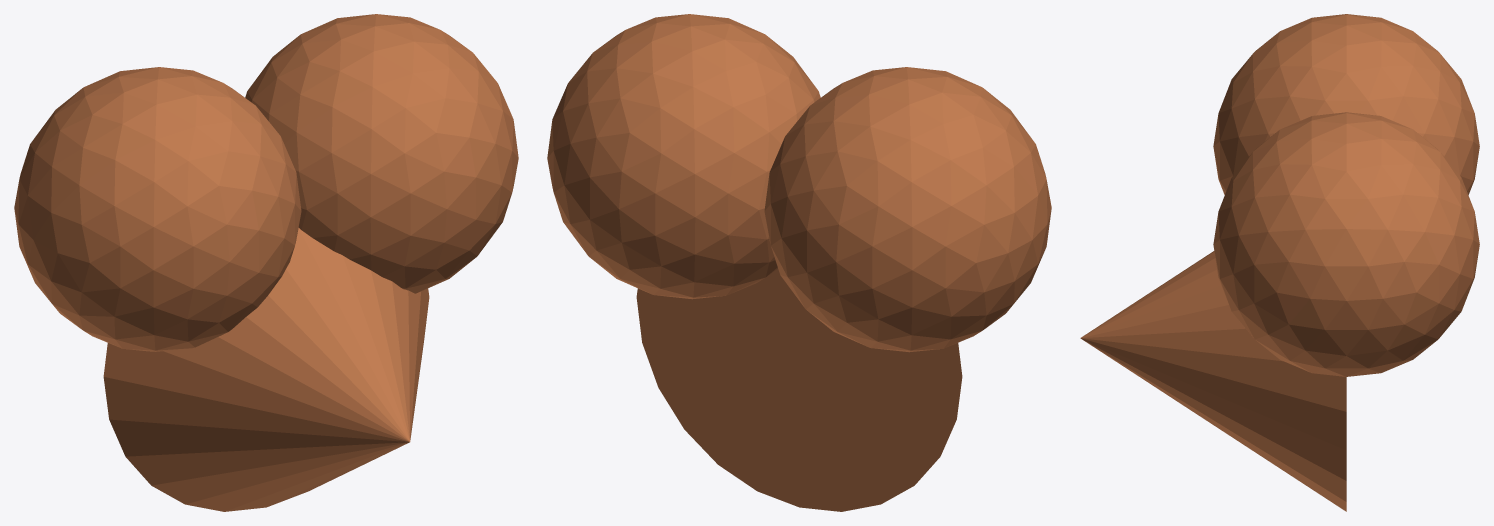
Rendered from love_013.glb.
3 renders of one model, left to right at view 1: azimuth 30°, elevation 25°; view 2: azimuth 150°, elevation 25°; view 3: azimuth 270°, elevation 25°, orthographic. The views are drawn at different scales.
Visible parts, largest first — view 1: world; view 2: world; view 3: world.
Boxes of the visible parts, x1,y1,x2,y2 form: world: (14, 14, 518, 511); world: (547, 14, 1051, 511); world: (1080, 14, 1479, 511).
Bounding box in the file's own units: 2.06 × 1.92 × 1.65.
